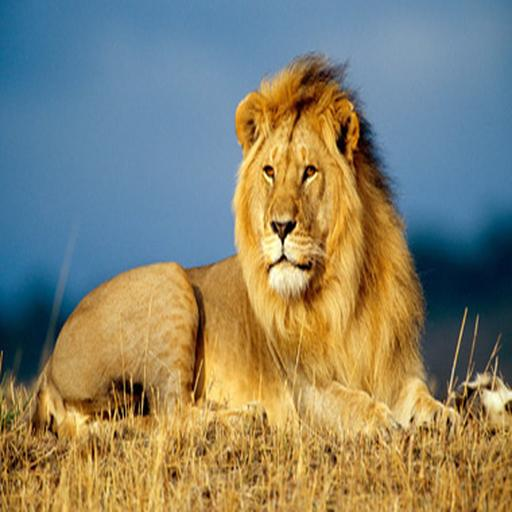Lion: (18, 45, 478, 448)
